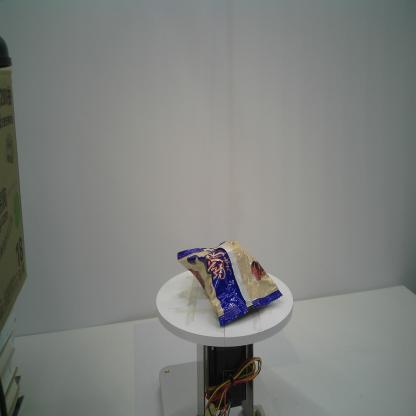Dessert: (176, 240, 284, 330)
